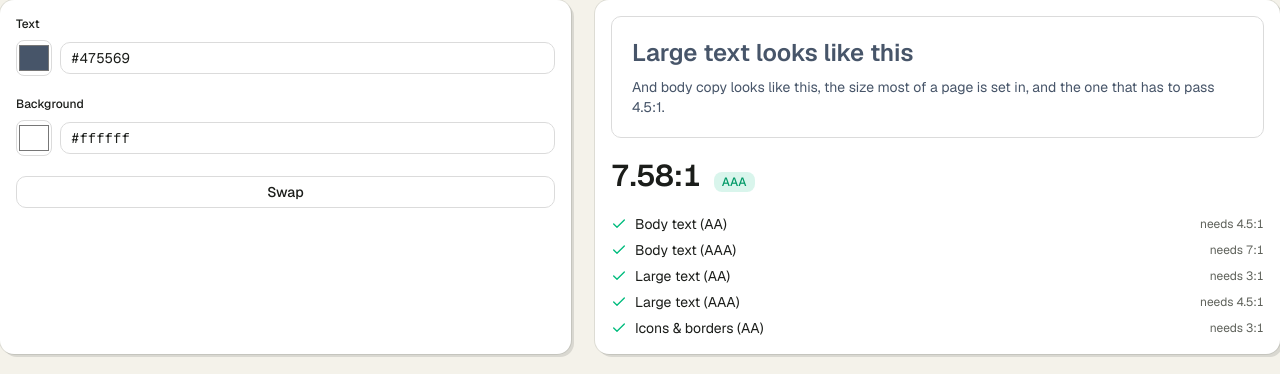
Test: ContrastCheckerTool › distinguishes large text from body text in the middle band
Clear the field labelled "Text" at coordinates (307, 58), box [60, 42, 555, 74]
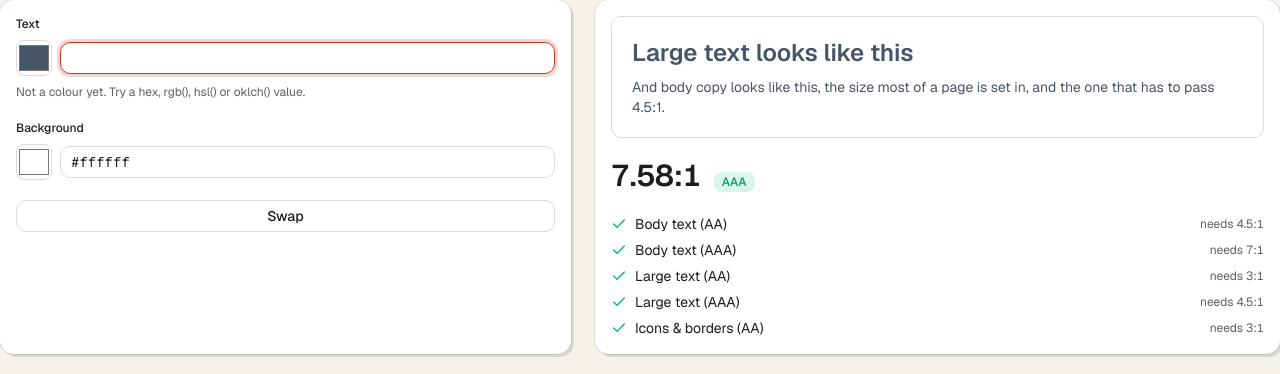
Type keys "#949494"
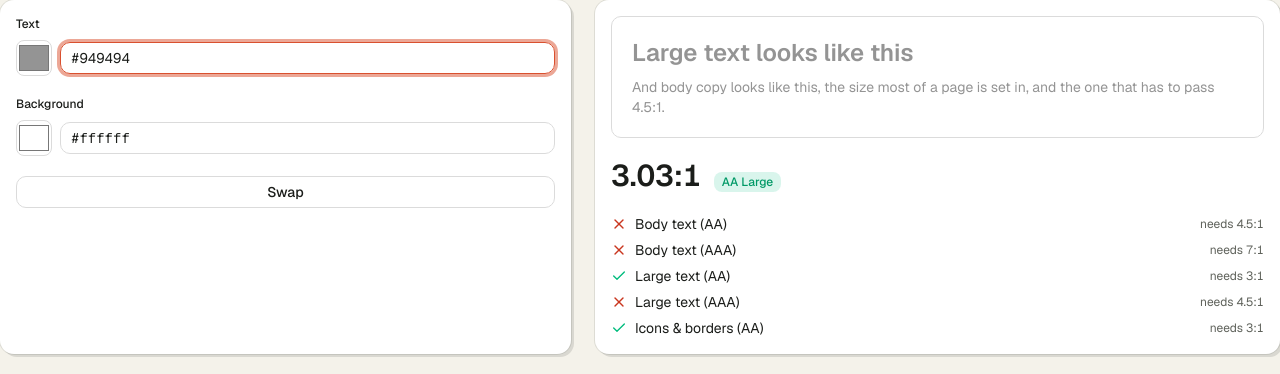
Result: the text "AA Large" is shown at [714, 172, 781, 192]
